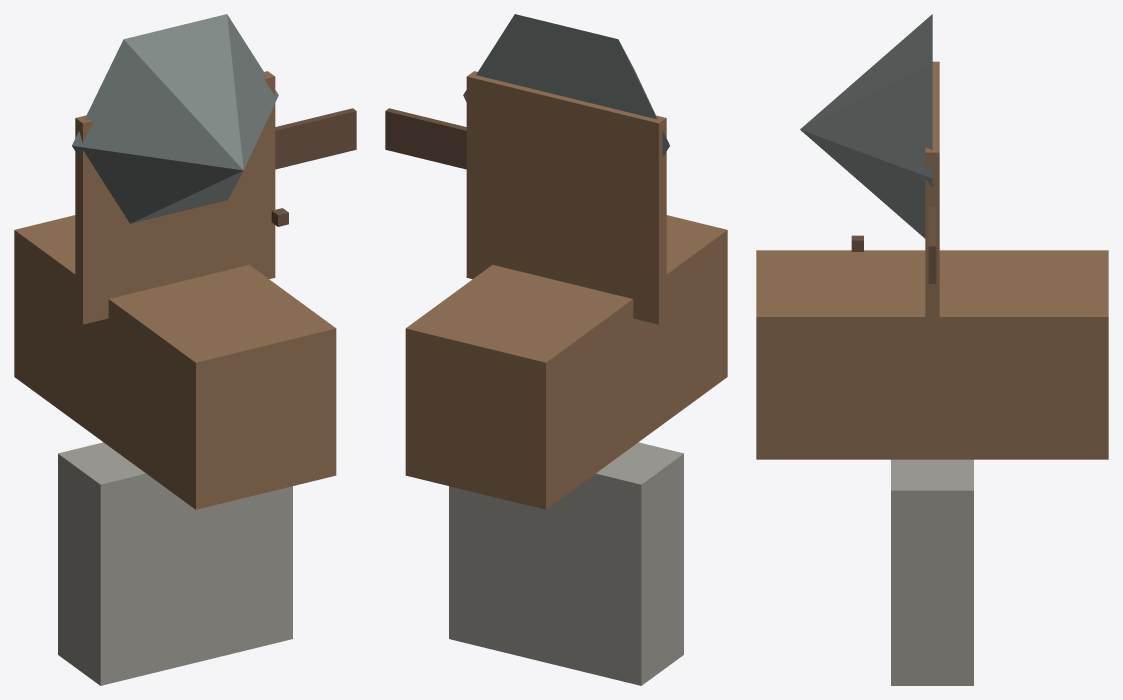
The model's file is watchtower.glb.
3 renders of one model, left to right at view 1: azimuth 30°, elevation 25°; view 2: azimuth 150°, elevation 25°; view 3: azimuth 270°, elevation 25°, orthographic. The views are drawn at different scales.
Visible parts, largest first — view 1: tower, base, roof, balcony, rail; view 2: tower, base, balcony, roof, rail; view 3: tower, base, roof, balcony, rail.
Boxes of the visible parts, left/top/right/bottom form: tower: left=14, top=215, right=336, bottom=509; base: left=58, top=442, right=292, bottom=685; roof: left=72, top=14, right=278, bottom=223; balcony: left=75, top=71, right=275, bottom=324; rail: left=275, top=108, right=356, bottom=169; tower: left=405, top=215, right=727, bottom=509; base: left=449, top=442, right=683, bottom=685; balcony: left=466, top=71, right=666, bottom=324; roof: left=463, top=14, right=669, bottom=156; rail: left=385, top=108, right=466, bottom=169; tower: left=756, top=250, right=1108, bottom=459; base: left=891, top=459, right=973, bottom=685; roof: left=800, top=14, right=932, bottom=238; balcony: left=925, top=61, right=939, bottom=347; rail: left=928, top=207, right=936, bottom=283.
Size of the model in its own units: 7.65 by 16.02 by 8.5.
